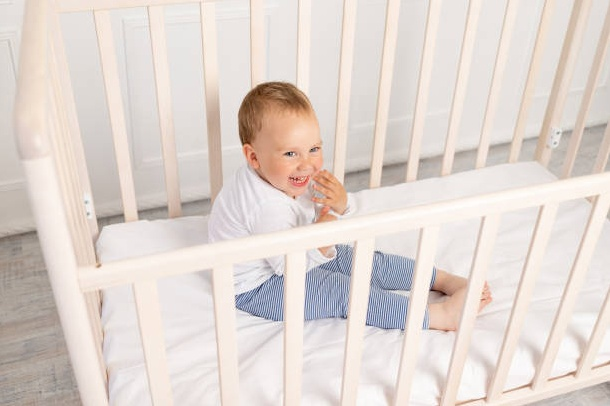baby: (208, 82, 352, 241)
crib: (15, 0, 609, 404)
